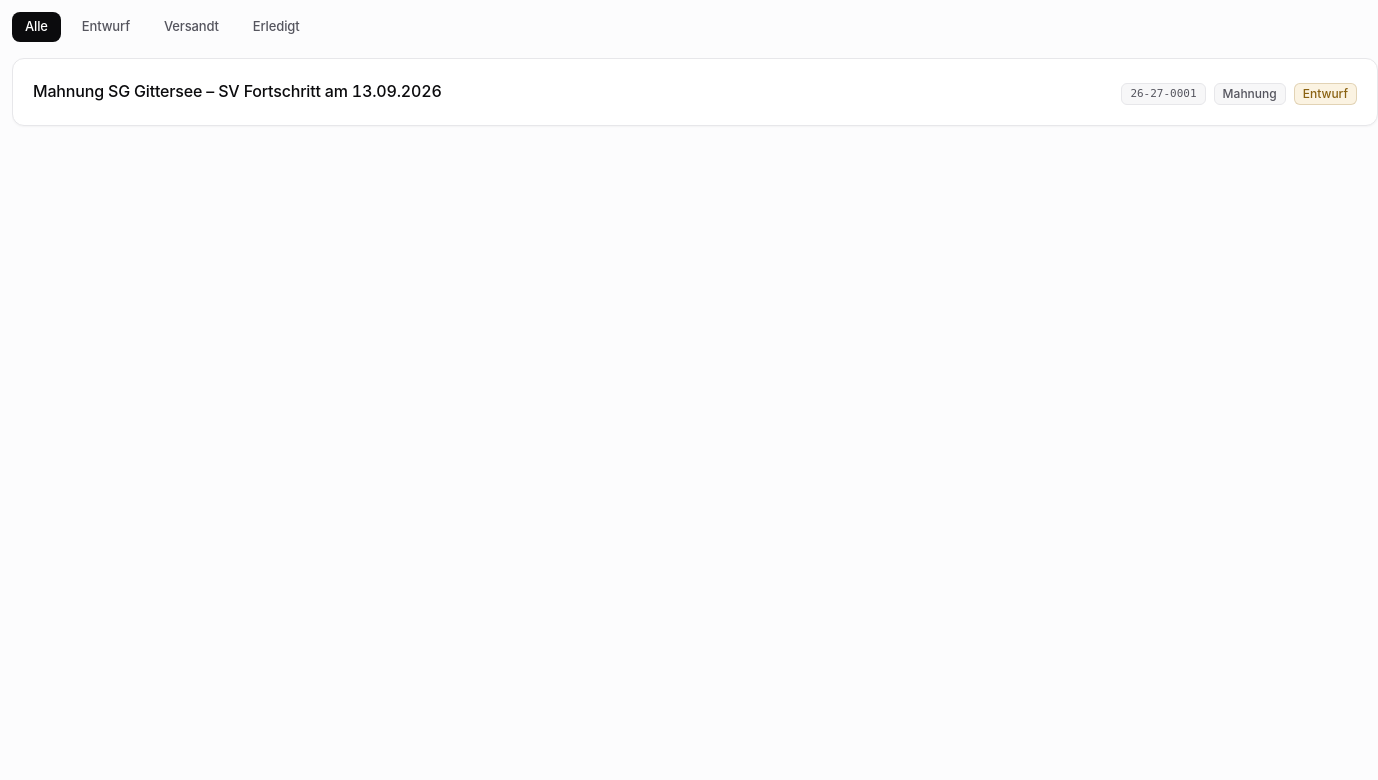
Test case: Ein Vorgang › Mahnung und Mail › nennt die Felder, die im Formular fehlen
The width and height of the screenshot is (1378, 780).
Click the 5th button at [237, 91], box [33,79,1357,105]
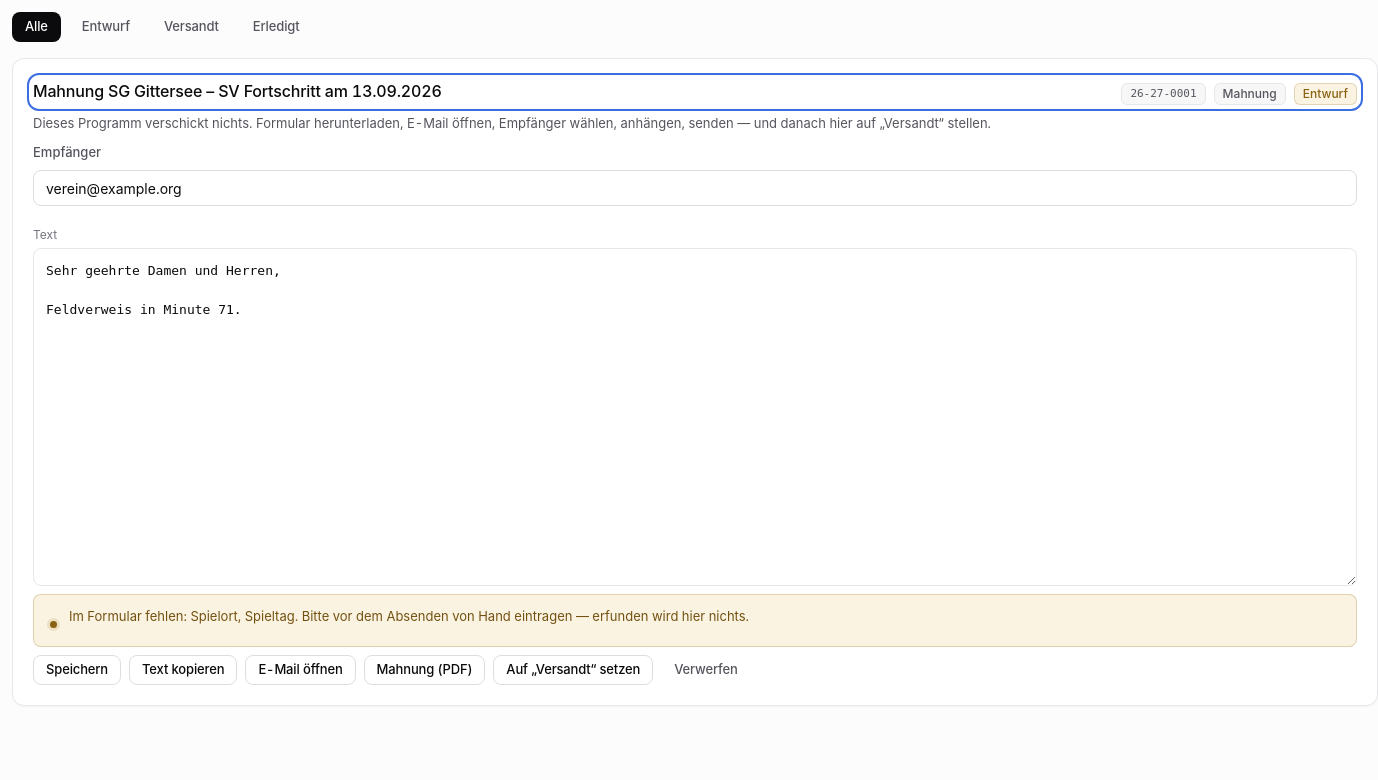
Now the text "Spielort, Spieltag" is shown, box [190,608,295,624]
